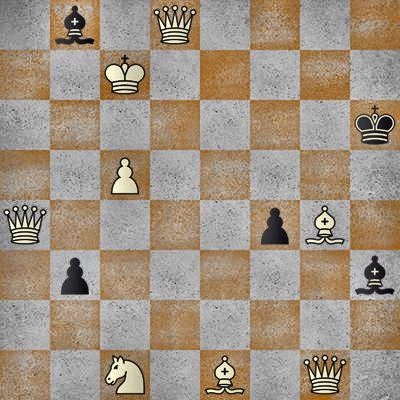black-bishop: (50, 0, 100, 50), (350, 250, 400, 300)
black-king: (350, 100, 400, 150)
black-pawn: (250, 200, 300, 250), (50, 250, 100, 300)
white-bishop: (300, 200, 350, 250), (200, 350, 250, 400)
white-king: (100, 50, 150, 100)
white-knight: (100, 350, 150, 400)
white-pawn: (100, 150, 150, 200)
white-queen: (150, 0, 200, 50), (0, 200, 50, 250), (300, 350, 350, 400)
